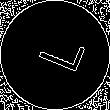L_W: (26, 31, 84, 79)
